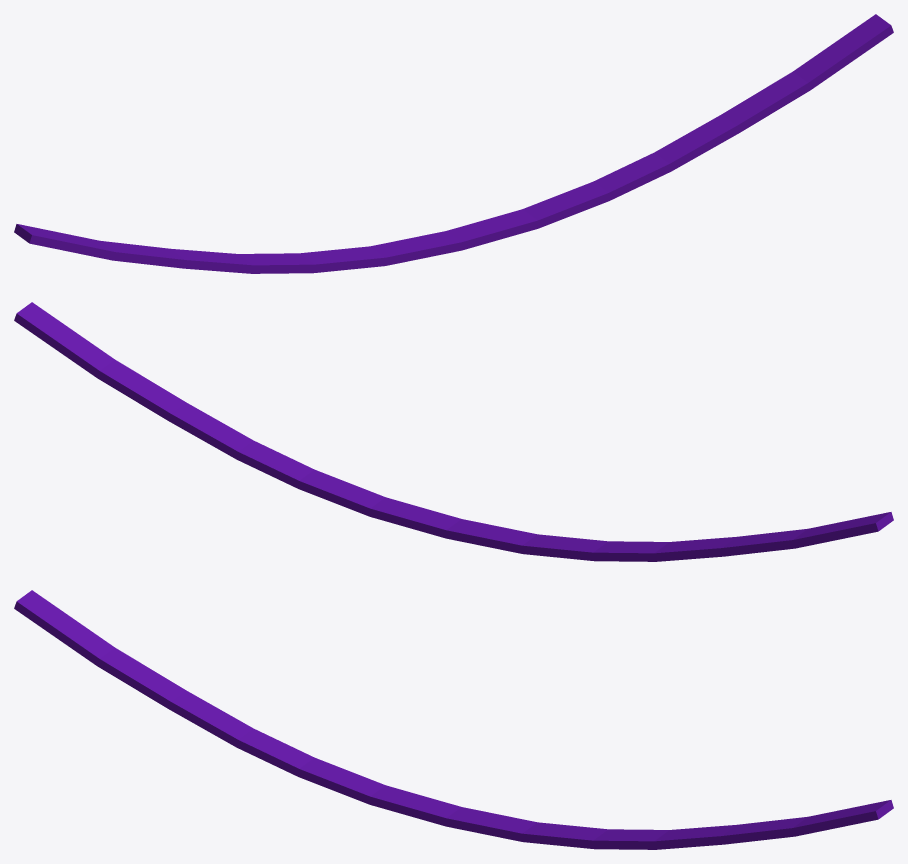
File: Tape_8_chunks.fbx
3 renders of one model, top to bottom at view 1: azimuth 30°, elevation 25°; view 2: azimuth 150°, elevation 25°; view 3: azimuth 330°, elevation 25°, orthographic.
Visible parts, largest first — view 1: Tape_8_0, Tape_8_3, Tape_8_1; view 2: Tape_8_0, Tape_8_3, Tape_8_1; view 3: Tape_8_0, Tape_8_3, Tape_8_1.
Part boxes in pixels (left/top/right/bottom): Tape_8_0: left=14, top=224, right=433, bottom=273; Tape_8_3: left=609, top=14, right=893, bottom=190; Tape_8_1: left=417, top=174, right=634, bottom=255; Tape_8_0: left=476, top=512, right=893, bottom=561; Tape_8_3: left=14, top=302, right=310, bottom=473; Tape_8_1: left=262, top=468, right=485, bottom=545; Tape_8_0: left=14, top=590, right=431, bottom=817; Tape_8_3: left=597, top=800, right=893, bottom=849; Tape_8_1: left=419, top=798, right=623, bottom=849.
Size of the model in its own units: 776 by 103 by 24.08.
